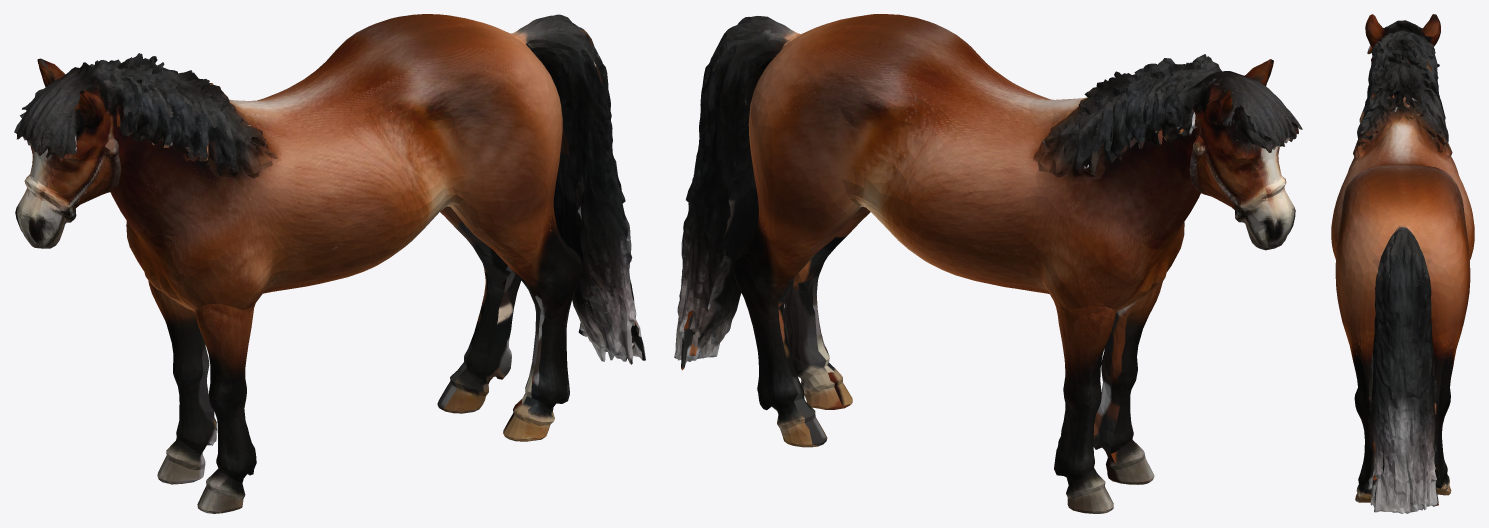
The model's file is traveler_env_coast_hida_tethered_bay_pony_00001_.glb.
The picture shows the model from 3 angles, left to right: view 1: azimuth 30°, elevation 25°; view 2: azimuth 150°, elevation 25°; view 3: azimuth 270°, elevation 25°; orthographic projection. The views are drawn at different scales.
Visible parts, largest first — view 1: temp_mesh.ply; view 2: temp_mesh.ply; view 3: temp_mesh.ply.
Boxes of the visible parts, x1,y1,x2,y2 form: temp_mesh.ply: (14,14,645,513); temp_mesh.ply: (674,14,1302,513); temp_mesh.ply: (1331,14,1474,513).
Bounding box in the file's own units: 1.97 × 1.4 × 0.5558.
Materials: 1 (1 with a texture image).
